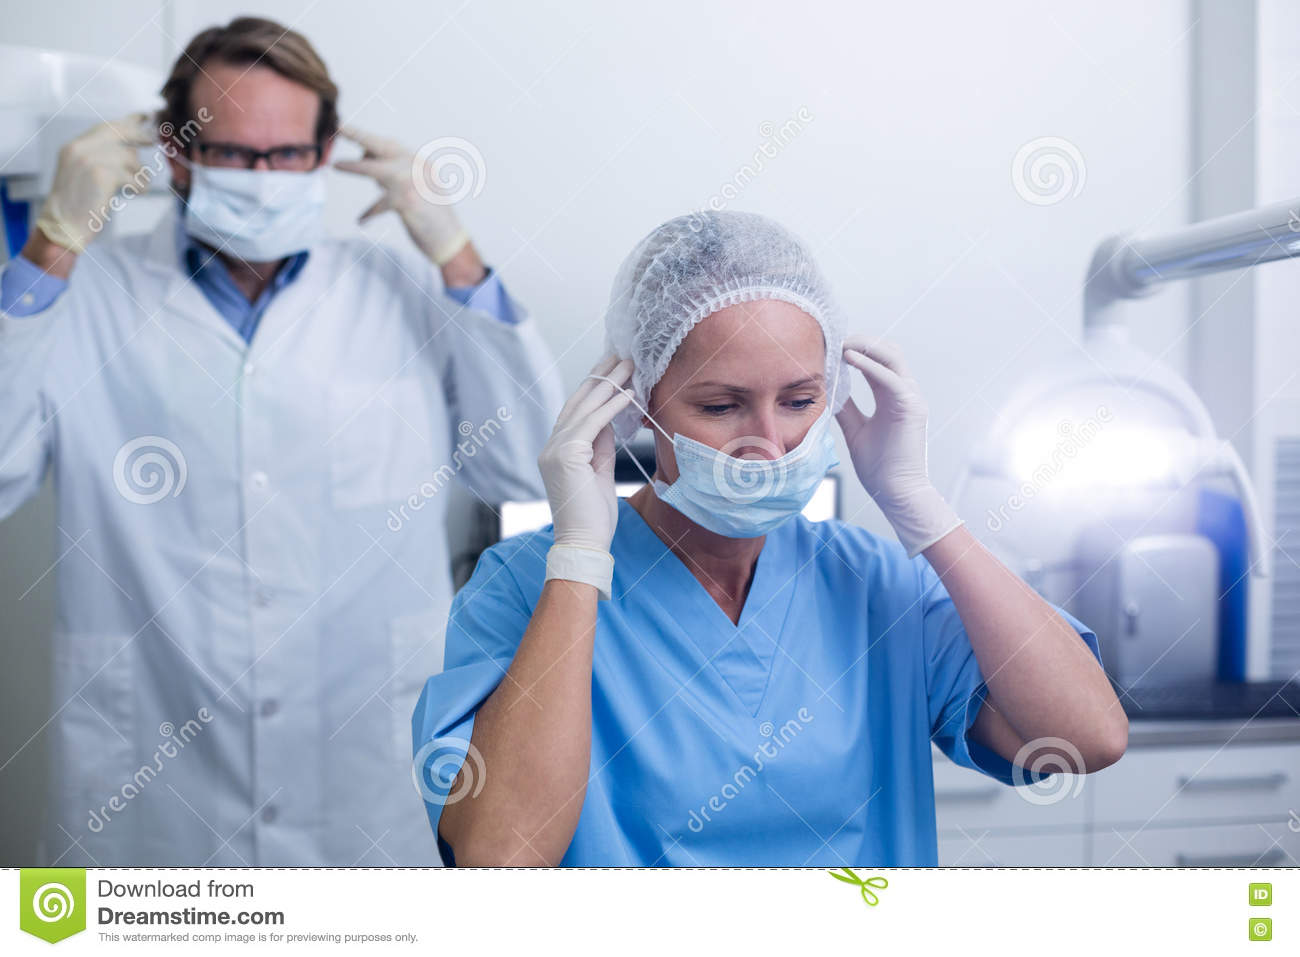mask: (657, 419, 858, 559), (172, 161, 336, 255)
